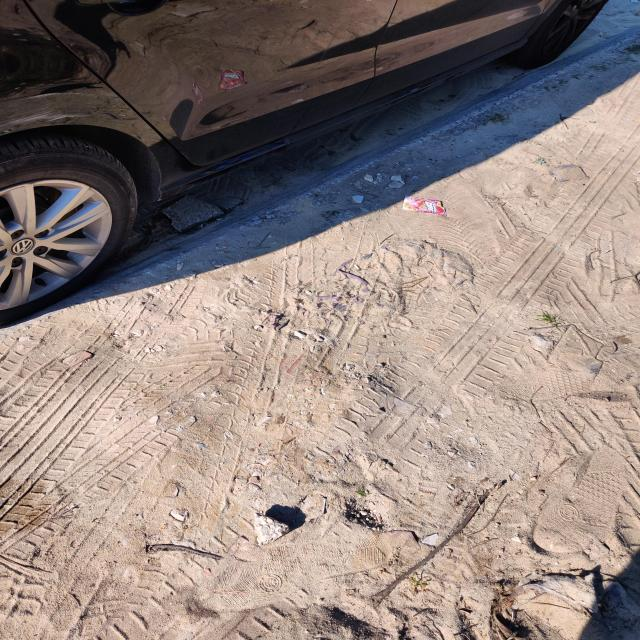litter: (391, 192, 471, 234)
